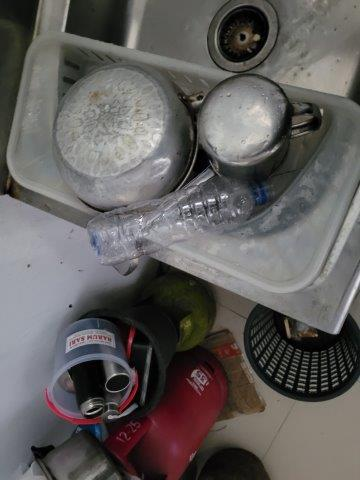botolplastik: (88, 177, 277, 259)
